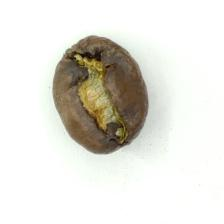NG: (59, 46, 134, 148)
